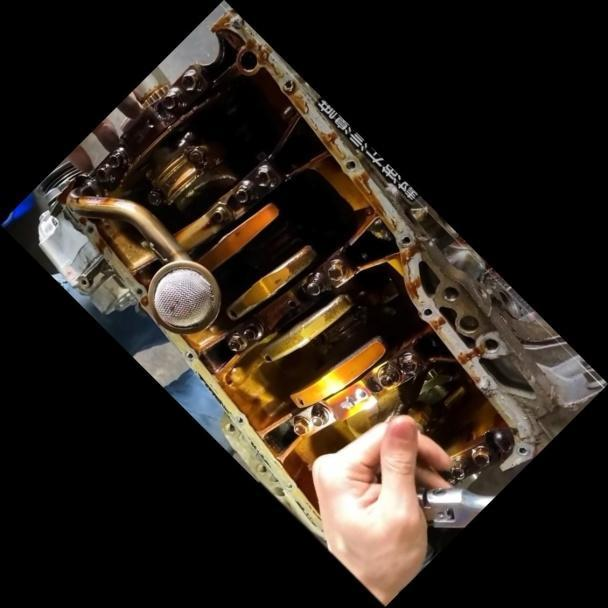hole: (74, 273, 91, 290), (342, 157, 358, 173), (281, 77, 296, 92), (514, 442, 529, 457), (420, 304, 434, 318), (82, 222, 96, 235), (182, 348, 195, 361), (399, 234, 411, 246), (283, 479, 294, 490), (234, 414, 245, 424), (133, 285, 143, 295)
